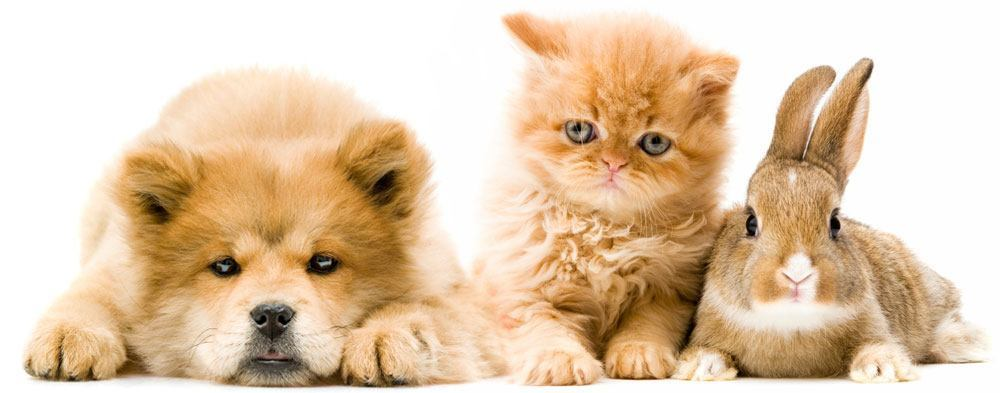cat: (489, 2, 720, 393)
dog: (36, 76, 468, 393)
rabbit: (686, 47, 939, 393)
